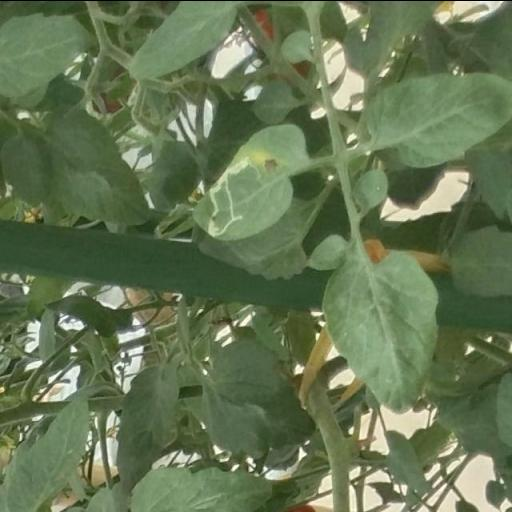disease_tomato: (190, 124, 312, 238)
